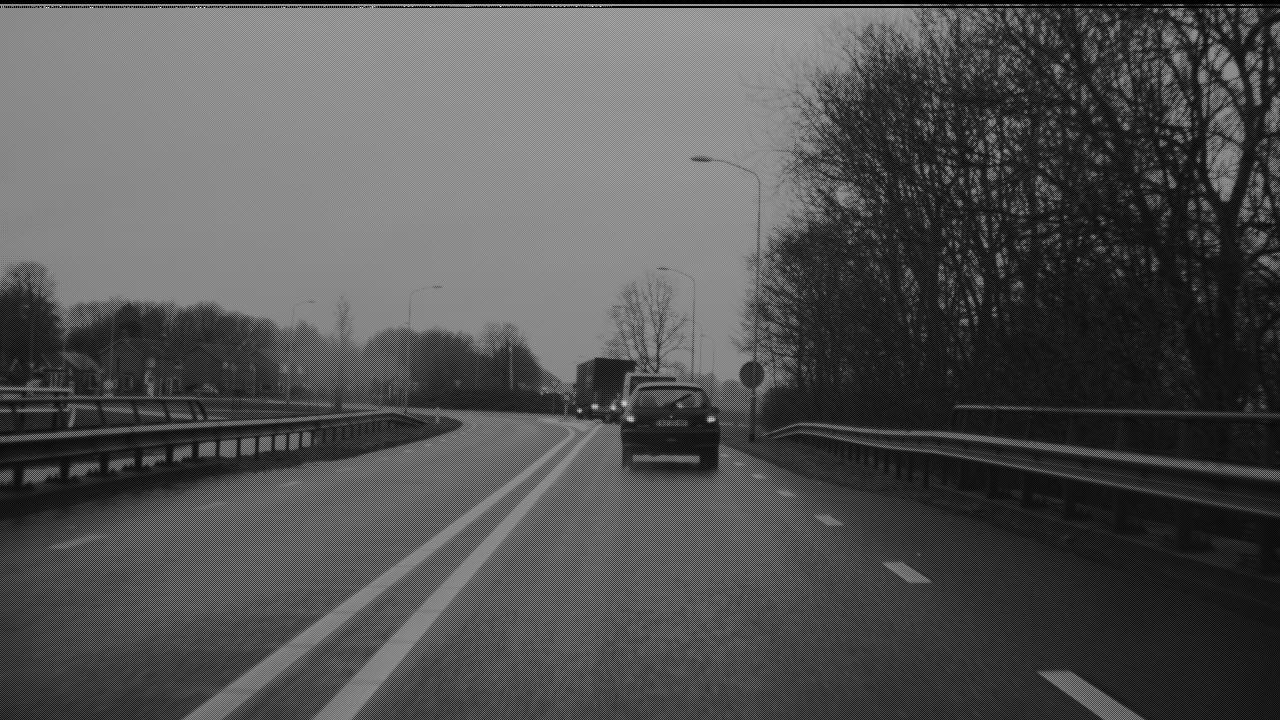pole: (746, 172, 757, 431), (287, 300, 296, 394), (405, 290, 412, 403), (689, 274, 695, 373)
